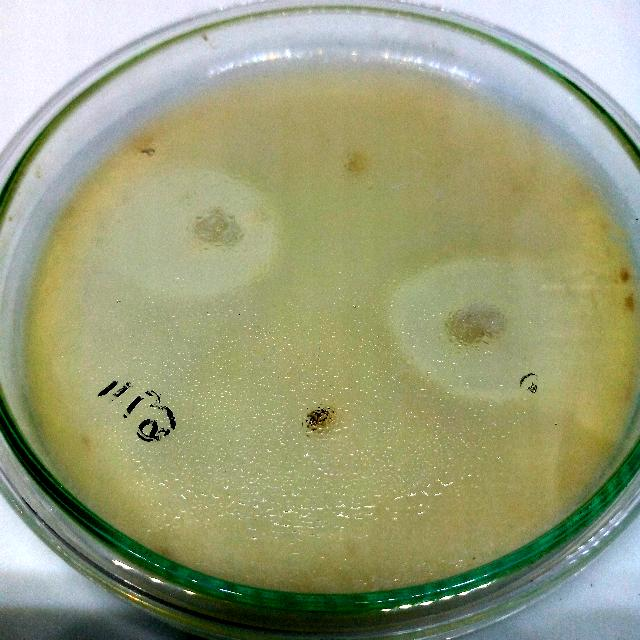colony: (440, 298, 510, 360), (188, 204, 248, 256), (295, 398, 343, 442), (334, 143, 374, 183)
